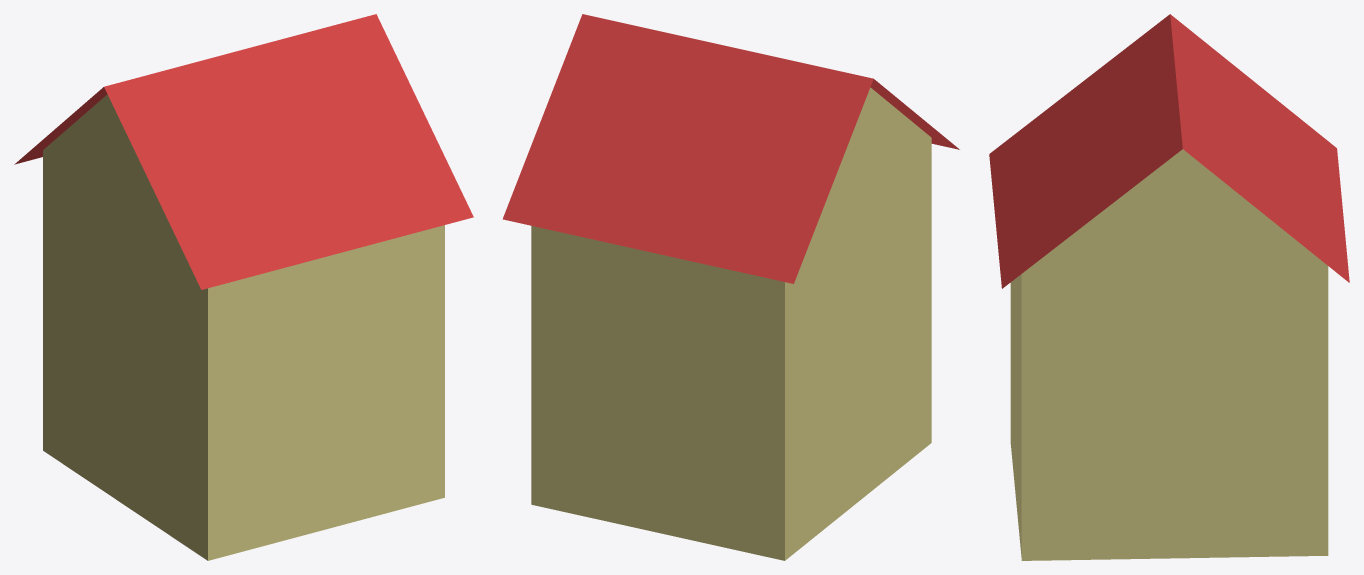
3 views of the same model, side by side, from view 1: azimuth 30°, elevation 25°; view 2: azimuth 150°, elevation 25°; view 3: azimuth 270°, elevation 25° (orthographic). The views are drawn at different scales.
Bounding box in the file's own units: 8.05 × 8.7 × 11.13.
